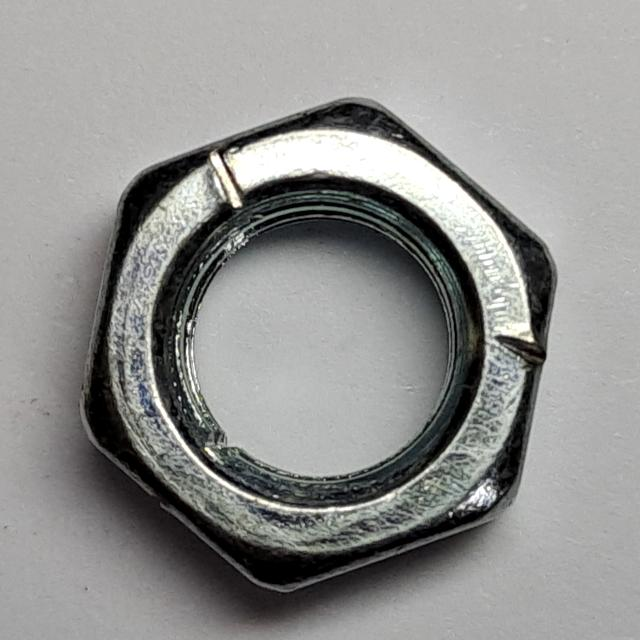Scratches: (68, 81, 570, 607)
